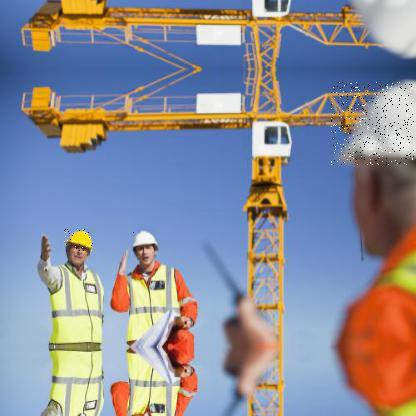safetyhelmet: (331, 82, 415, 166), (131, 226, 160, 252), (64, 228, 94, 252)
